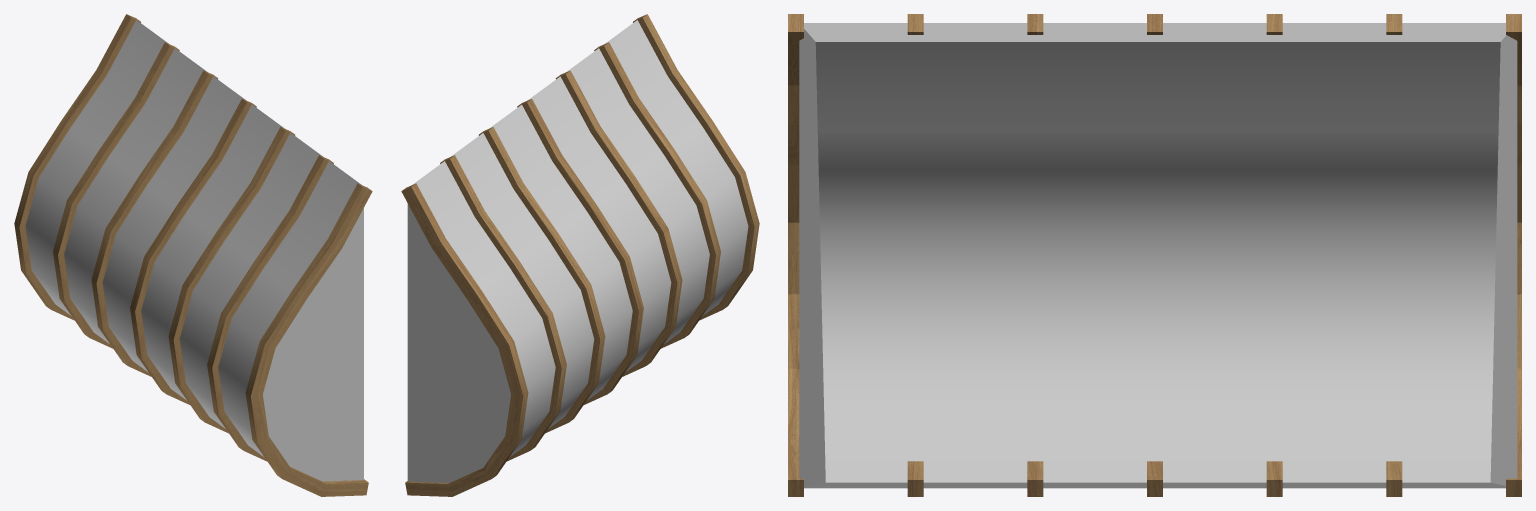
File: SM_Window05B.fbx
The picture shows the model from 3 angles, left to right: view 1: azimuth 30°, elevation 25°; view 2: azimuth 150°, elevation 25°; view 3: azimuth 270°, elevation 25°; orthographic projection. The views are drawn at different scales.
Parts seen in each view (by area): view 1: SM_Window05B; view 2: SM_Window05B; view 3: SM_Window05B.
Boxes of the visible parts, box(x1,y1,x2,y2) form: SM_Window05B: box(14, 14, 372, 496); SM_Window05B: box(401, 14, 759, 496); SM_Window05B: box(788, 14, 1521, 496).
Size of the model in its own units: 25.31 by 84.92 by 61.3.
2 materials, 1 textured.
